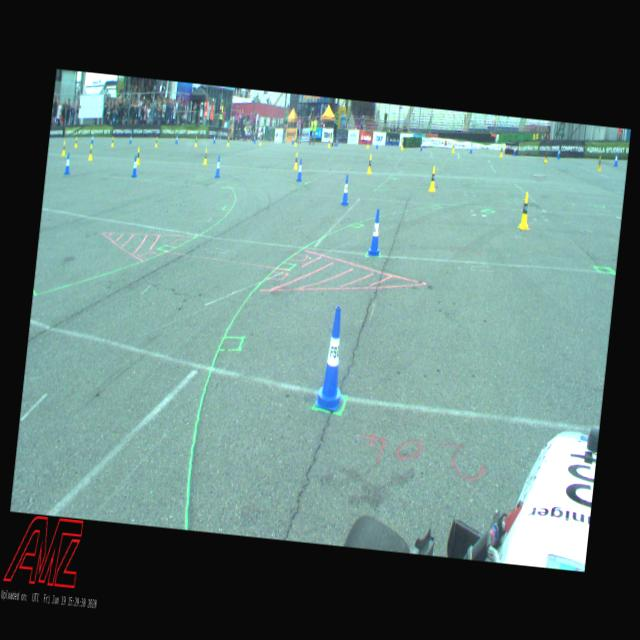blue_cone: (314, 304, 350, 411), (368, 208, 383, 256), (340, 174, 350, 206), (296, 157, 304, 180), (131, 154, 139, 177), (214, 155, 222, 177), (64, 153, 72, 175), (614, 152, 618, 166), (513, 145, 516, 156), (557, 147, 560, 158), (91, 133, 94, 143), (129, 132, 132, 142), (175, 134, 178, 144), (213, 134, 216, 144), (375, 140, 378, 148), (470, 142, 472, 154)
yellow_cone: (517, 191, 532, 229), (428, 166, 438, 192), (366, 154, 373, 174), (293, 152, 299, 169), (202, 148, 208, 164), (88, 144, 94, 160), (596, 155, 602, 171), (136, 146, 141, 164), (61, 140, 66, 156), (499, 144, 503, 158), (544, 150, 548, 162), (74, 136, 78, 147), (110, 136, 114, 147), (154, 136, 158, 147), (327, 136, 330, 148), (401, 138, 404, 150), (366, 138, 369, 149), (452, 141, 455, 152), (195, 136, 198, 146), (227, 136, 230, 146), (259, 136, 262, 146), (294, 136, 297, 146)
